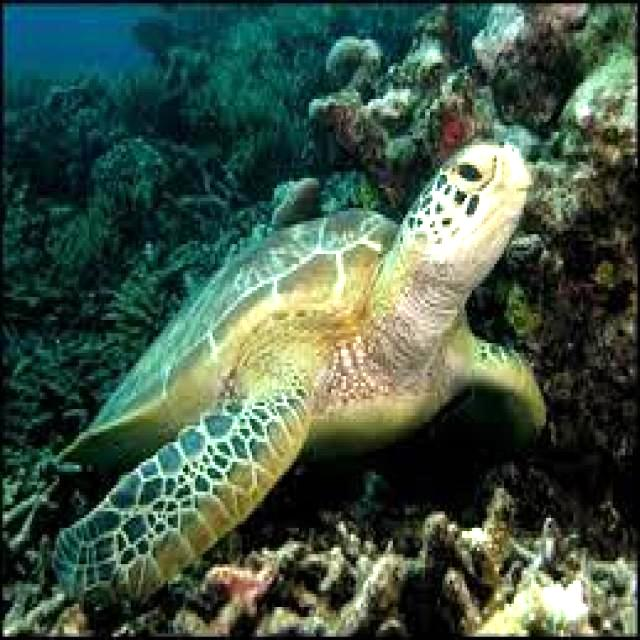Sea turtle: (51, 136, 553, 608)
